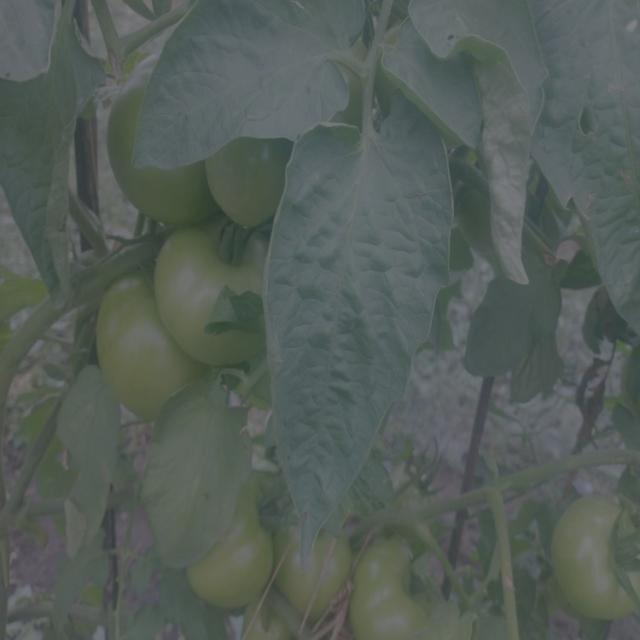tomato: (157, 214, 282, 370), (95, 276, 195, 418), (110, 89, 215, 222), (189, 492, 272, 613), (554, 486, 630, 616), (358, 530, 445, 640), (204, 131, 296, 229), (282, 506, 353, 622)
